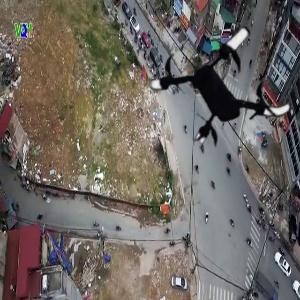drone: (154, 12, 299, 157)
